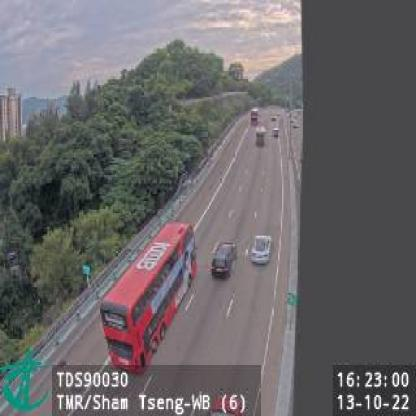Bus: (99, 225, 197, 370)
Car: (209, 240, 236, 280), (248, 233, 273, 267), (257, 126, 267, 148)
